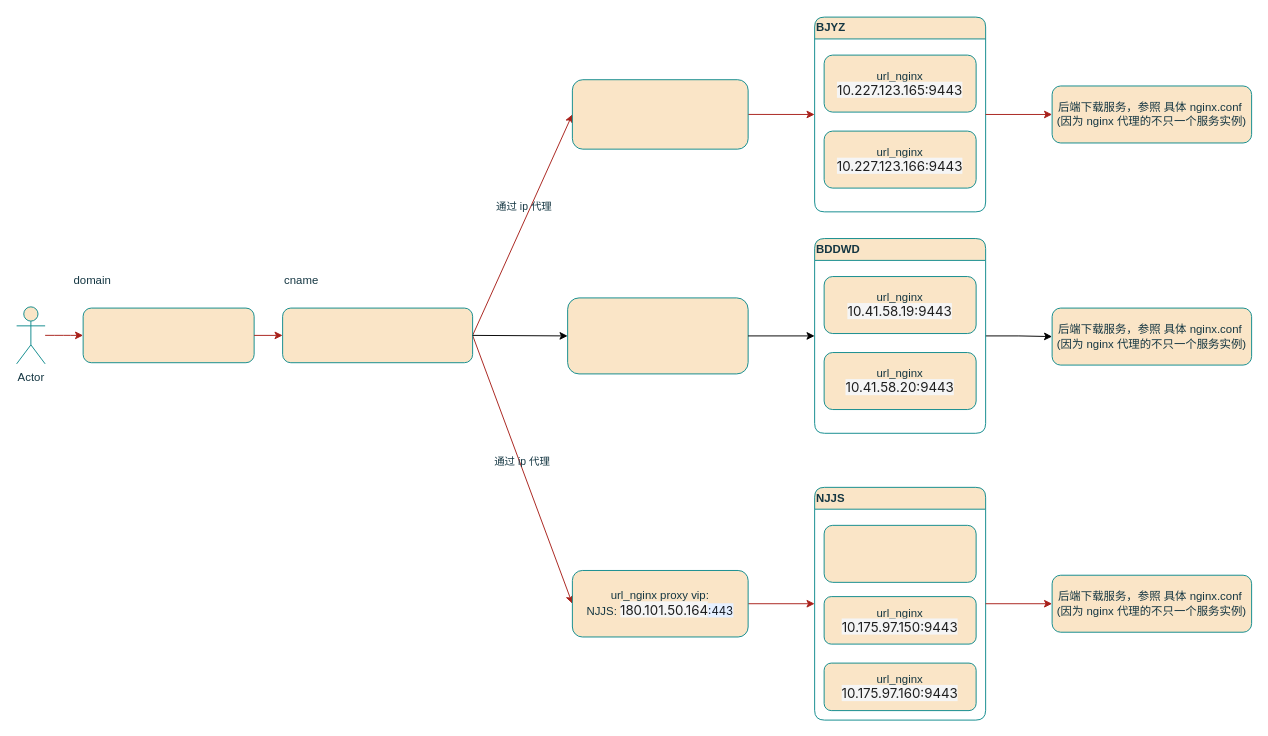
This 1268x736 diagram has some shape labels left out. The shapes that lost their labels are listed below. From the top down, each one's centre as x and y in pixels, then its label:
At [659,114]: "url_nginx proxy vip: BJYZ: 112.34.113.214: 443".
At [168,335]: "download.api.bsb.baidu.com".
At [377,335]: "downloadapi.n.shifen.com".
At [657,335]: "url_nginx proxy vip: BDDWD: 110.242.68.25:443".
At [899,553]: "url_nginx 10.175.97.147:9443".
